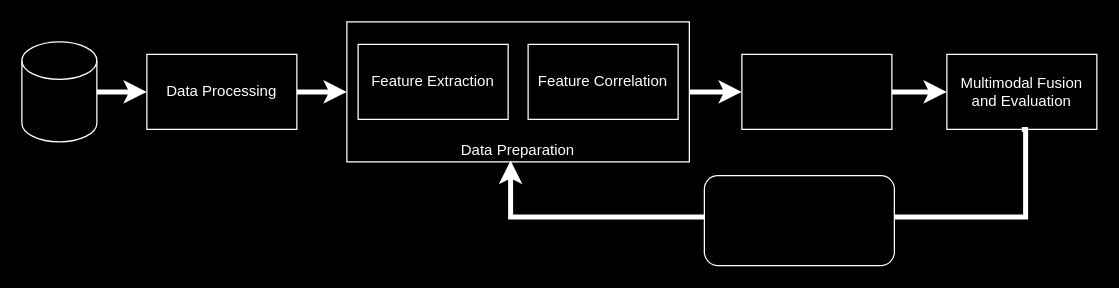
This 1119x288 diagram has some shape labels left out. Here are the shapes that lost their labels. From the top down, the centre of each, then its label:
At point 59,91: "Dataset".
At point 816,91: "Deep Learning Model Development".
At point 798,220: "Hyperparameter tuning to achieve best model performance".
